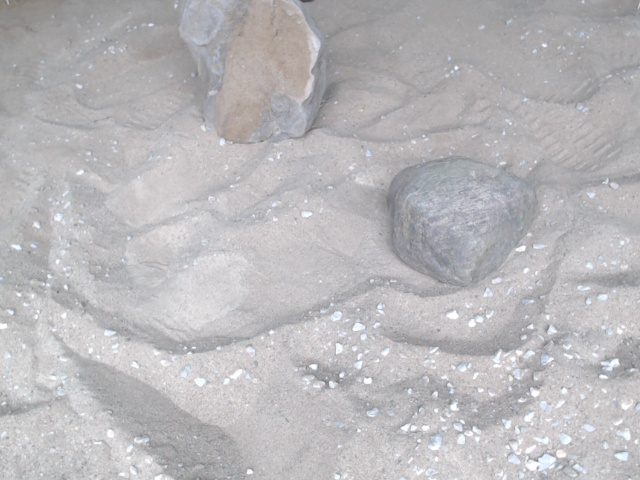rock: (169, 1, 334, 151), (381, 149, 541, 292)
